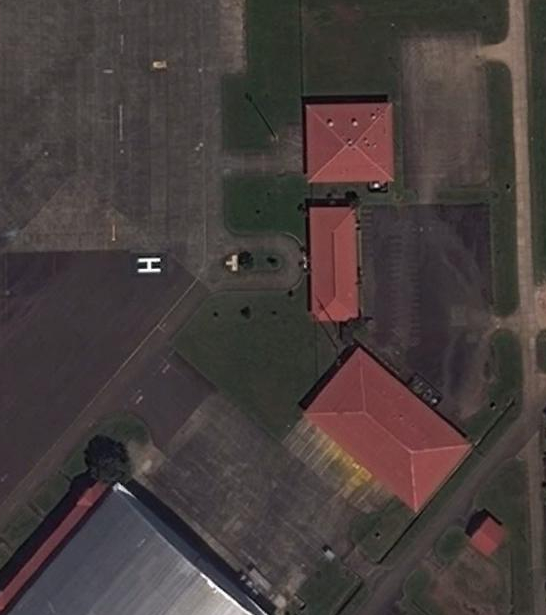heliport: (134, 254, 163, 274)
